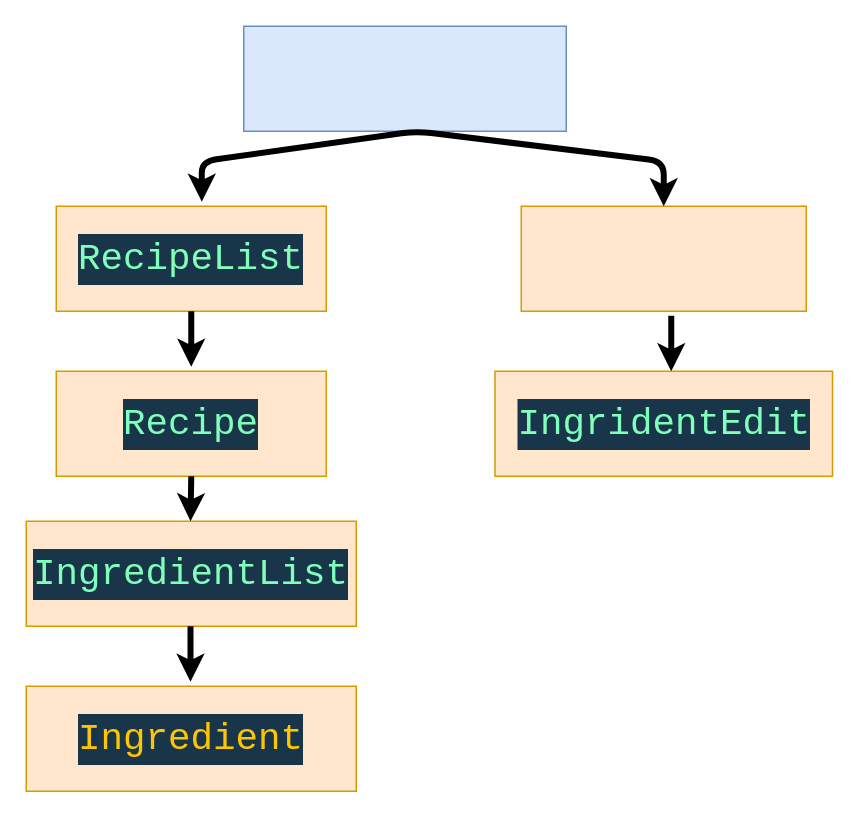
The diagram is 860 pixels wide and 818 high, and some of its shapes have lost their labels. Each missing label, with the centre of its shape:
App: the point at 404,78
RecipeEdit: the point at 663,258
